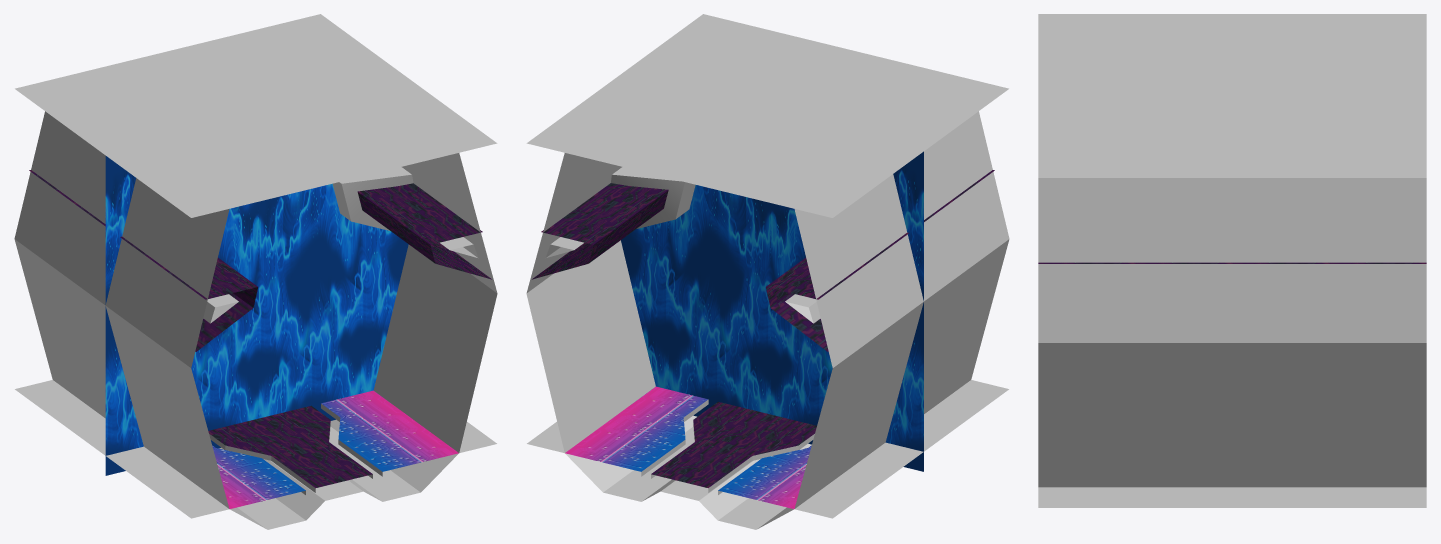
The model's file is cbshld01.FBX.
3 renders of one model, left to right at view 1: azimuth 30°, elevation 25°; view 2: azimuth 150°, elevation 25°; view 3: azimuth 270°, elevation 25°, orthographic. The views are drawn at different scales.
Visible parts, largest first — view 1: tower4, shield__e2g, tower3, tower2, cbshld01, glass2, glass5, glass1, nodule, tower1, glass4; view 2: tower4, shield__e2g, tower3, tower2, cbshld01, glass2, glass5, glass1, nodule, tower1, glass4; view 3: tower2, tower4, tower3, cbshld01, glass5.
Part boxes in pixels (x1,y1,x2,y2): tower4: (15,14,497,217); shield__e2g: (105,156,408,475); tower3: (14,239,497,508); tower2: (14,111,497,367); cbshld01: (15,380,496,529); glass2: (212,390,458,508); glass5: (29,170,491,351); glass1: (208,405,372,487); nodule: (203,237,477,520); tower1: (332,167,413,230); glass4: (209,423,372,492); tower4: (526,14,1008,217); shield__e2g: (621,151,923,471); tower3: (526,239,1009,508); tower2: (526,111,1009,367); cbshld01: (527,380,1008,529); glass2: (565,386,811,508); glass5: (532,170,994,351); glass1: (651,401,816,487); nodule: (546,237,820,520); tower1: (611,167,695,228); glass4: (651,423,814,492); tower2: (1038,178,1426,342); tower4: (1038,14,1426,177); tower3: (1038,343,1426,487); cbshld01: (1038,487,1426,507); glass5: (1038,262,1426,263).
Size of the model in its own units: 64 by 66 by 64.
